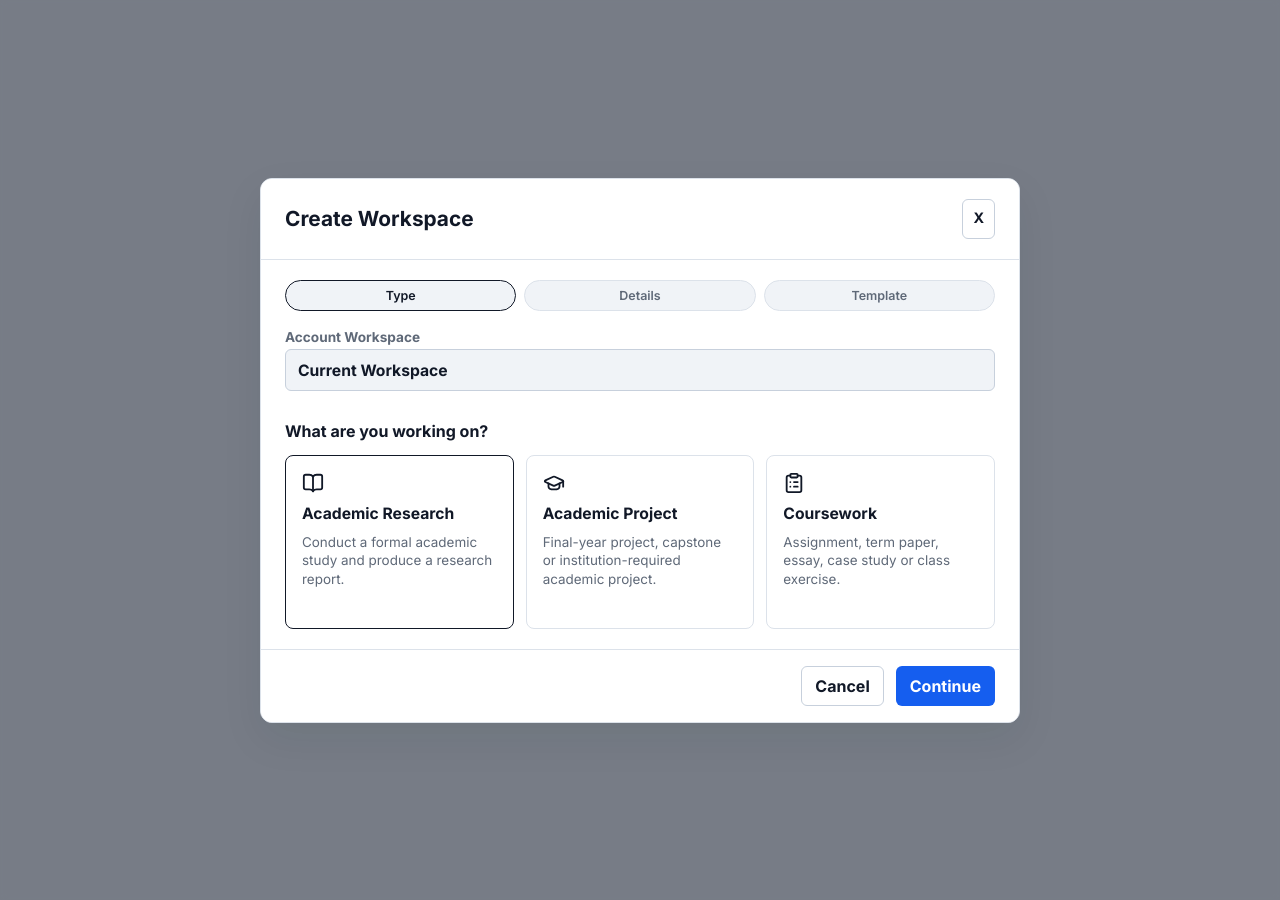
Test: Workspace & FREE Plan Flow Suite › displays quota exceeded feedback with View Plans action when project creation limit is reached
Click the button "Continue" at (945,686), box [896,666,995,706]
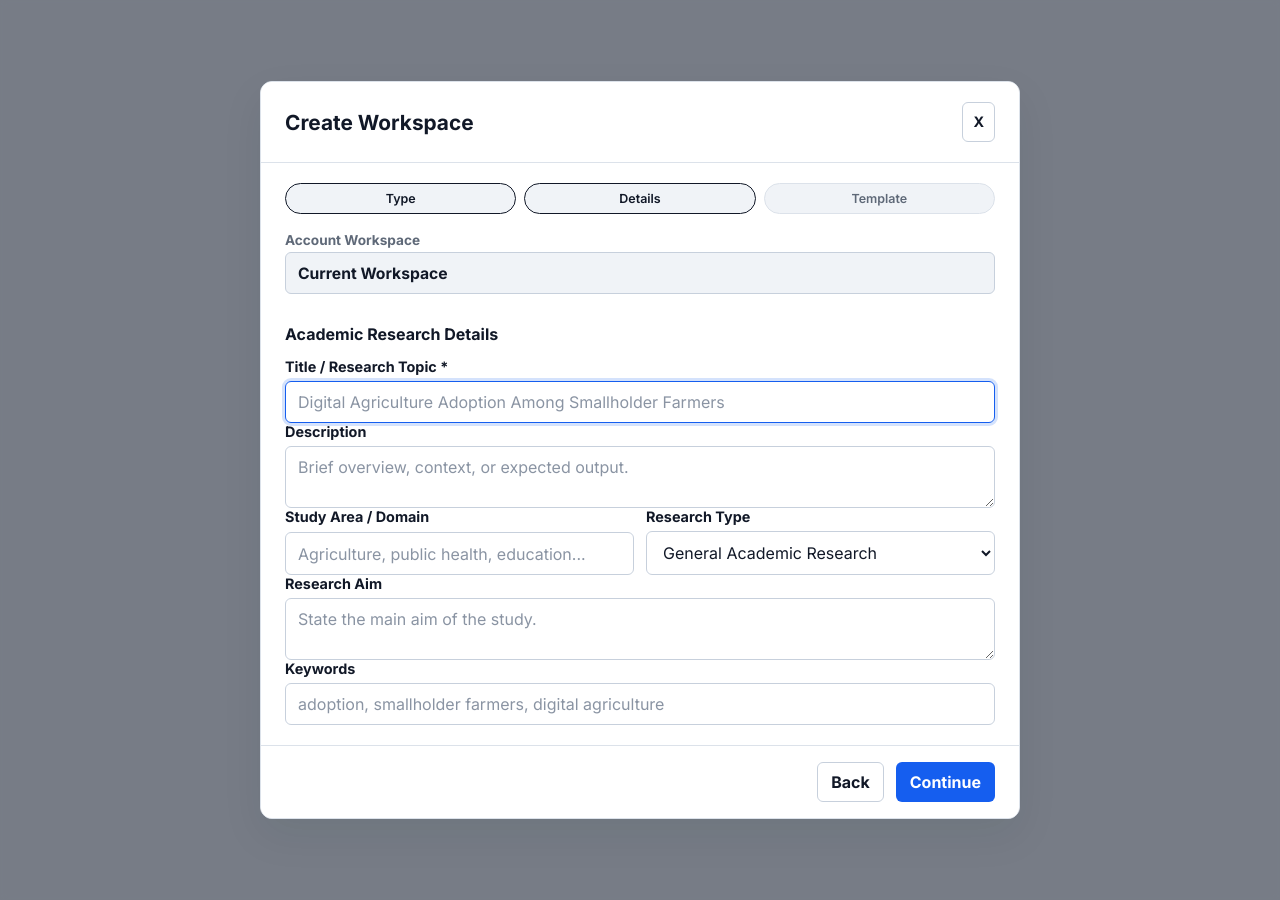
Type "Exceeding Project" into the field labelled "Title / Research Topic *" at (640,402), box [285,381,995,423]
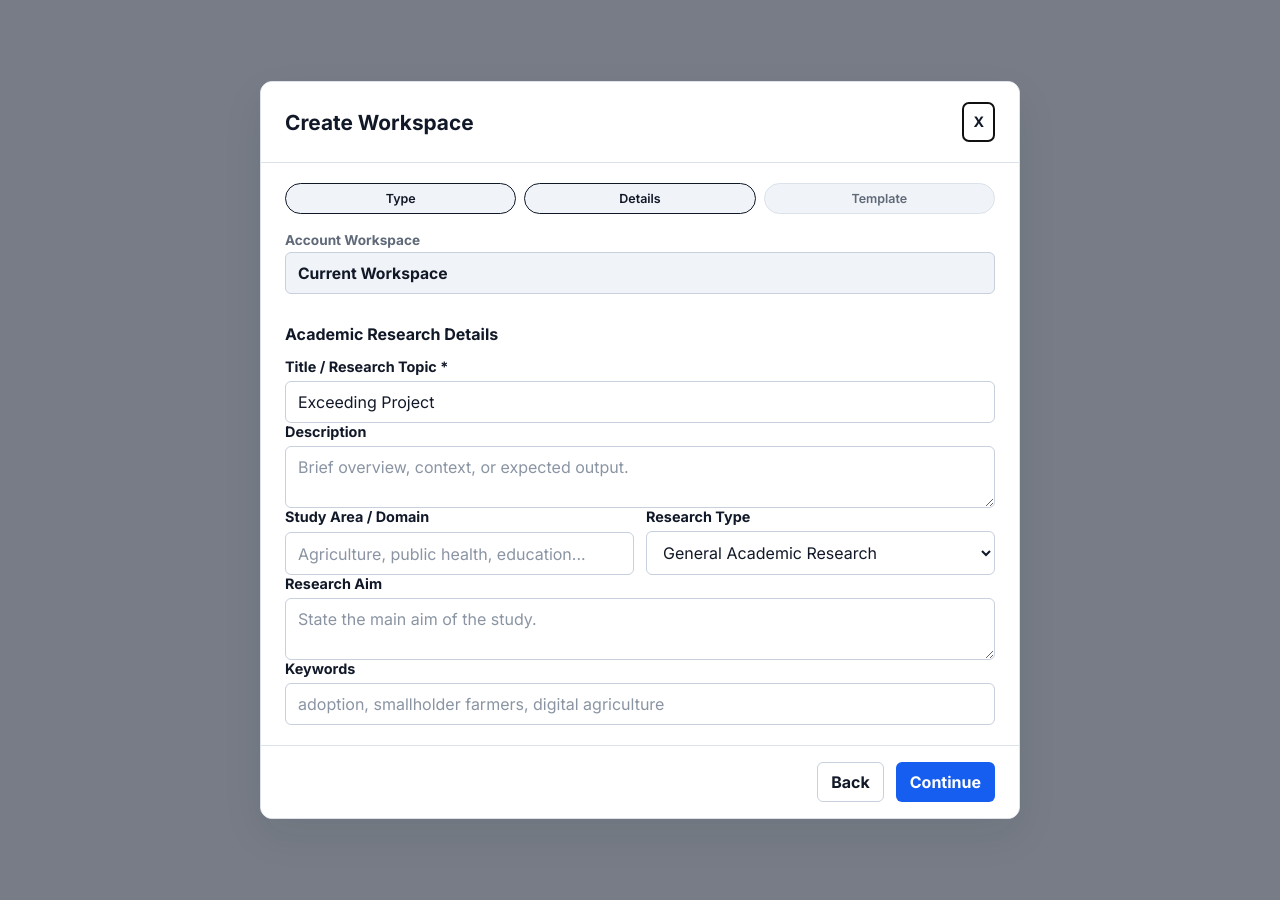
Click the button "Continue" at (945,782), box [896,762,995,802]
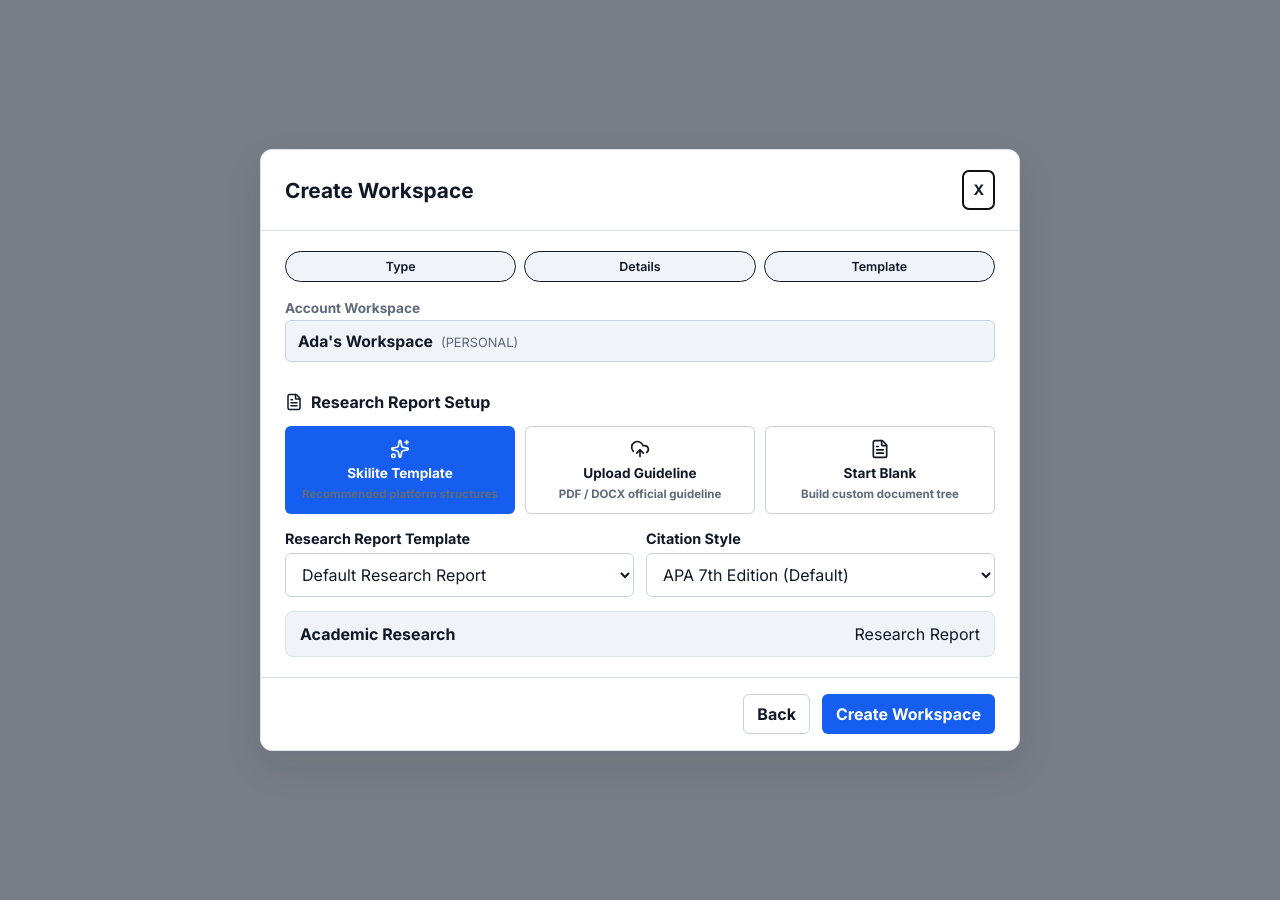
Result: the heading "Research Report Setup" is shown at [285,392,490,412]
Click the button with aria-label "create workspace & launch" at (908,714), box [822,694,995,734]
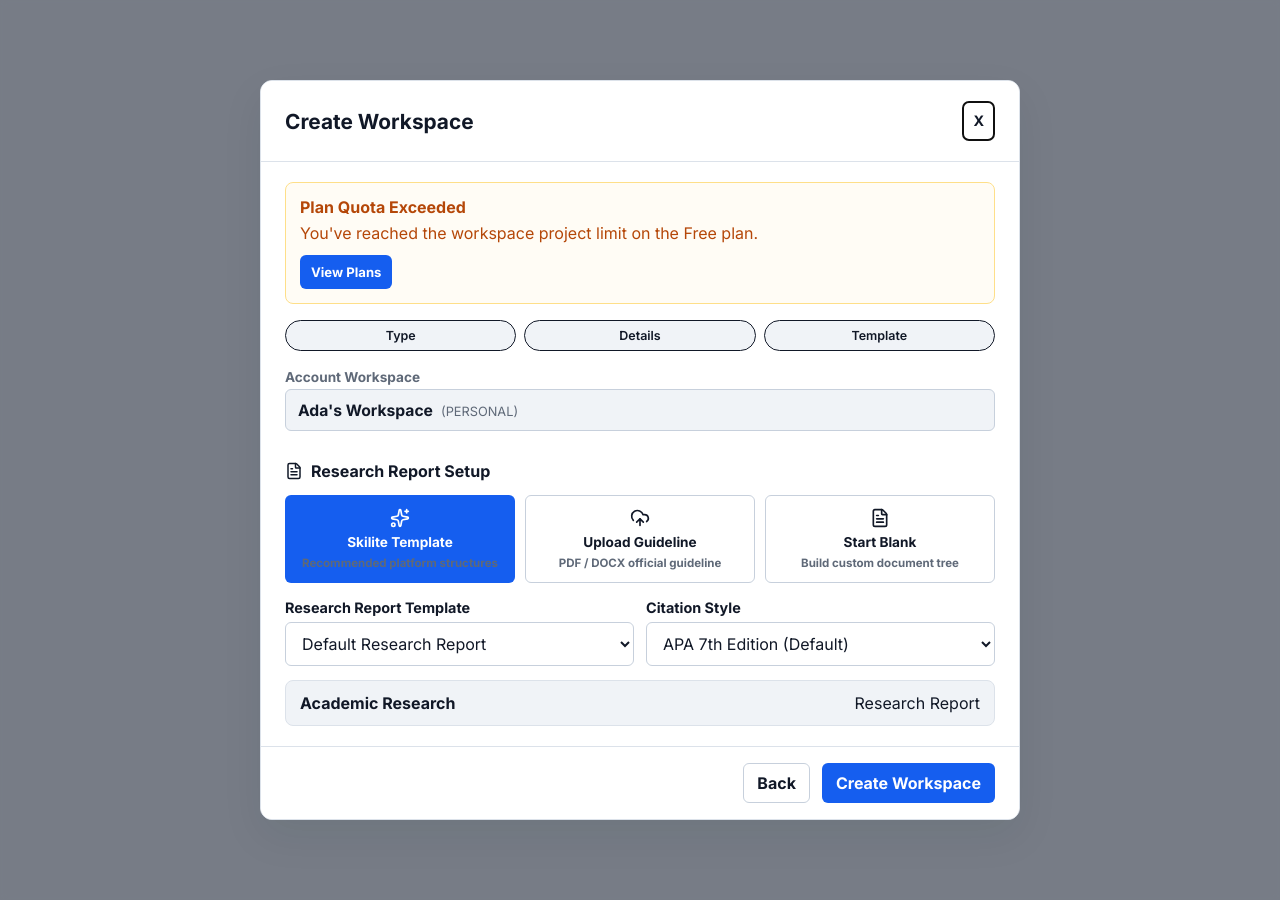
Result: the text "You've reached the workspace project limit on the Free plan." is shown at [300,223,758,243]
Result: the button "View Plans" is shown at [300,255,392,289]
